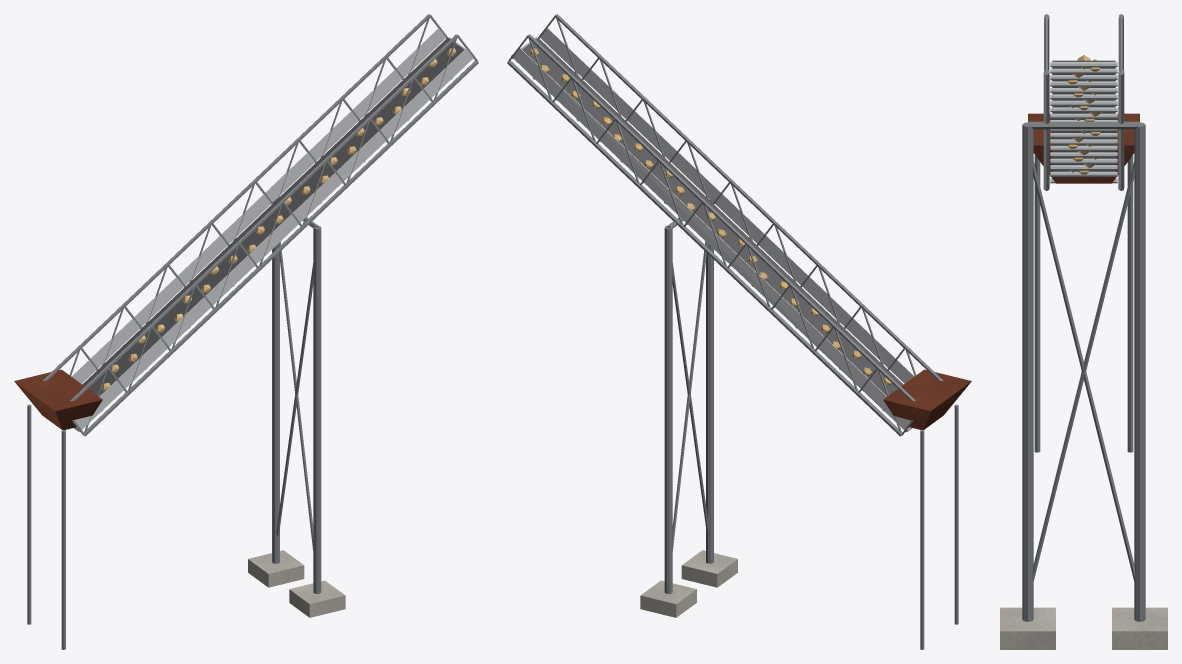
Rendered from conveyor.glb.
3 views of the same model, side by side, from view 1: azimuth 30°, elevation 25°; view 2: azimuth 150°, elevation 25°; view 3: azimuth 270°, elevation 25° (orthographic). The views are drawn at different scales.
Parts seen in each view (by area): view 1: conveyor_steel_d, conveyor_metal, conveyor_rubber, conveyor_rust_d, conveyor_concrete, conveyor_sawdust; view 2: conveyor_steel_d, conveyor_metal, conveyor_rubber, conveyor_rust_d, conveyor_concrete, conveyor_sawdust; view 3: conveyor_steel_d, conveyor_steel, conveyor_concrete, conveyor_rubber, conveyor_rust_d, conveyor_sawdust.
Part boxes in pixels (x1,y1,x2,y2): conveyor_steel_d: [27, 14, 478, 649]; conveyor_metal: [71, 28, 473, 429]; conveyor_rubber: [82, 37, 463, 396]; conveyor_rust_d: [14, 369, 102, 429]; conveyor_concrete: [248, 550, 345, 617]; conveyor_sawdust: [101, 48, 455, 391]; conveyor_steel_d: [507, 14, 958, 649]; conveyor_metal: [513, 28, 914, 429]; conveyor_rubber: [522, 37, 909, 427]; conveyor_rust_d: [883, 369, 971, 429]; conveyor_concrete: [640, 550, 737, 617]; conveyor_sawdust: [530, 48, 891, 385]; conveyor_steel_d: [1022, 14, 1145, 621]; conveyor_steel: [1050, 62, 1117, 183]; conveyor_concrete: [1000, 607, 1167, 649]; conveyor_rubber: [1052, 60, 1115, 171]; conveyor_rust_d: [1028, 113, 1139, 183]; conveyor_sawdust: [1067, 55, 1101, 174].
Bounding box in the file's own units: 7.22 × 8.52 × 1.8.
7 materials, 3 textured.
